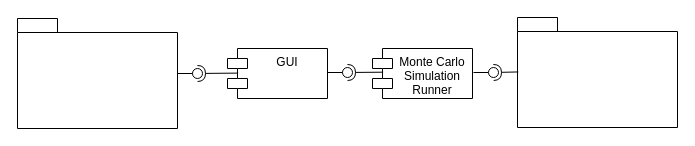
Some shapes in this 695 by 146 pixel diagram are drawn without their labels. The shapes that lost their labels are listed below. From the top down, each one's centre as x and y in pixels, then its label:
At point 97,73: "Simulation data".
At point 597,72: "Simulation graphical output".
